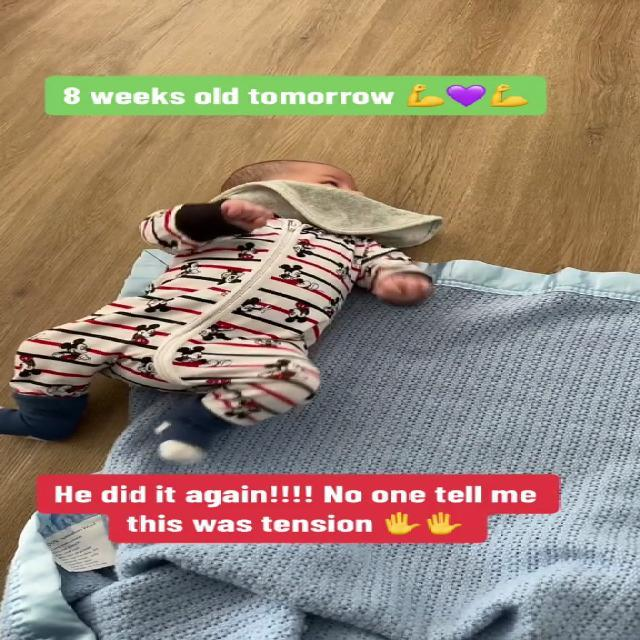baby: (0, 150, 450, 460)
